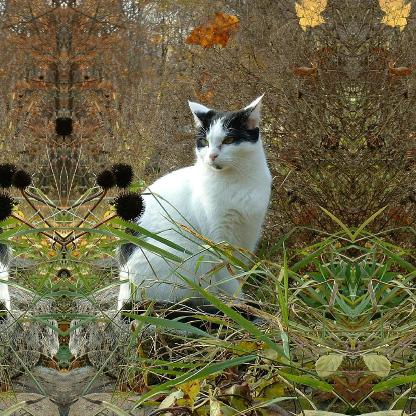Cat: (118, 92, 272, 324)
